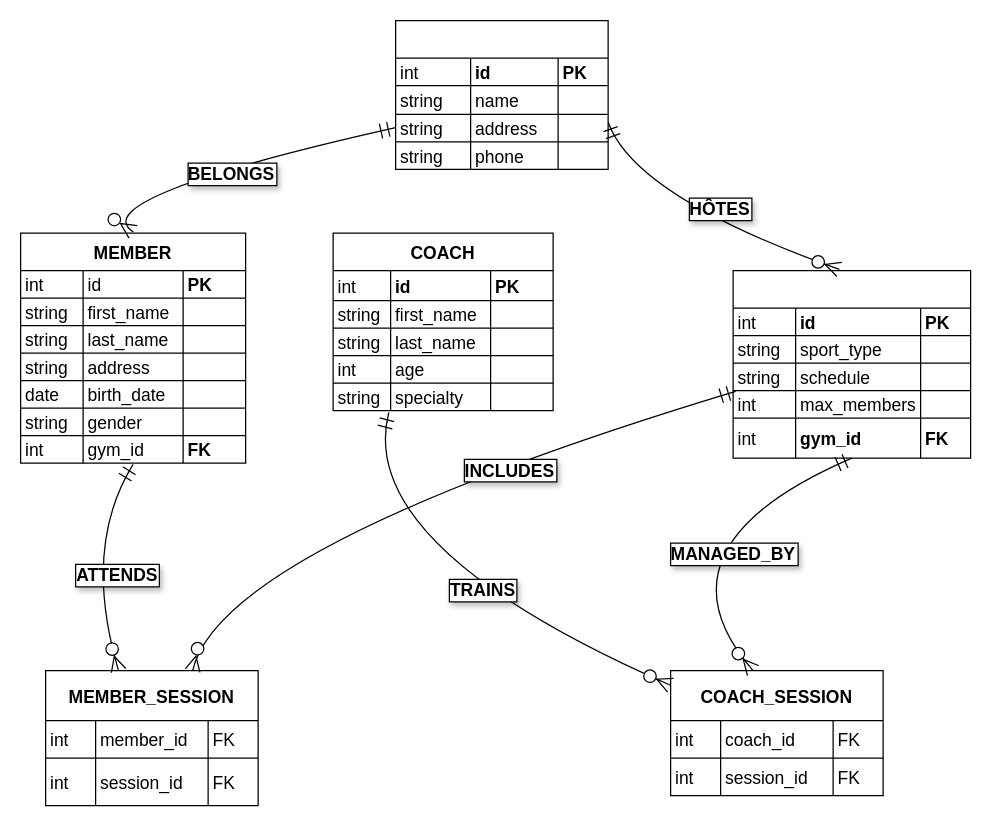
Image size: 991x826. Some labels were removed from this diagram. The shapes that lost their labels are listed below. From the top down, each one's box as (x1, y1, x2, y2) in pixels, then its label:
(394, 19, 608, 169): GYM
(732, 269, 971, 458): SESSION
